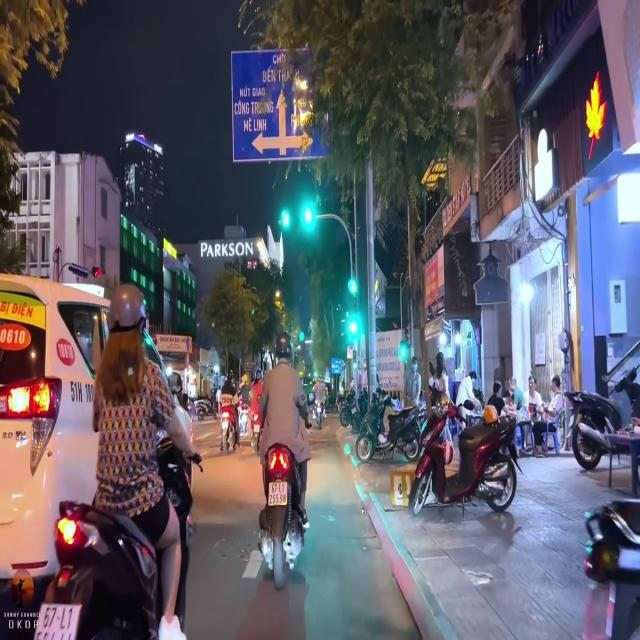bien_trang: (30, 593, 86, 640), (266, 477, 288, 508)
